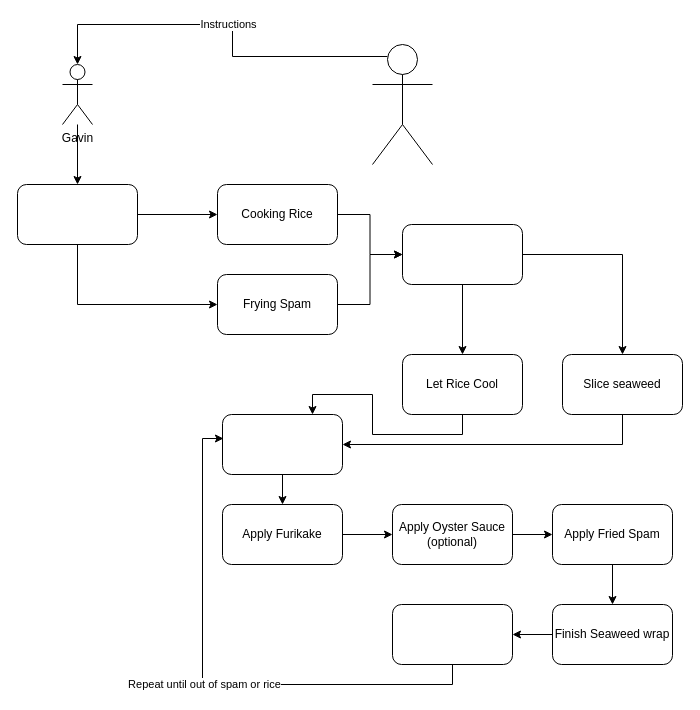
This 700x710 diagram has some shape labels left out. The shapes that lost their labels are listed below. From the top down, each one's centre as x and y in pixels, then its label:
point (402, 104): Uncle Cary
point (77, 214): Washing Rice
point (462, 254): Mix Vinegar, Salt, Sugar with Rice
point (282, 444): Press Rice into mold with seaweed
point (452, 634): Wrap musubi in saran wrap
